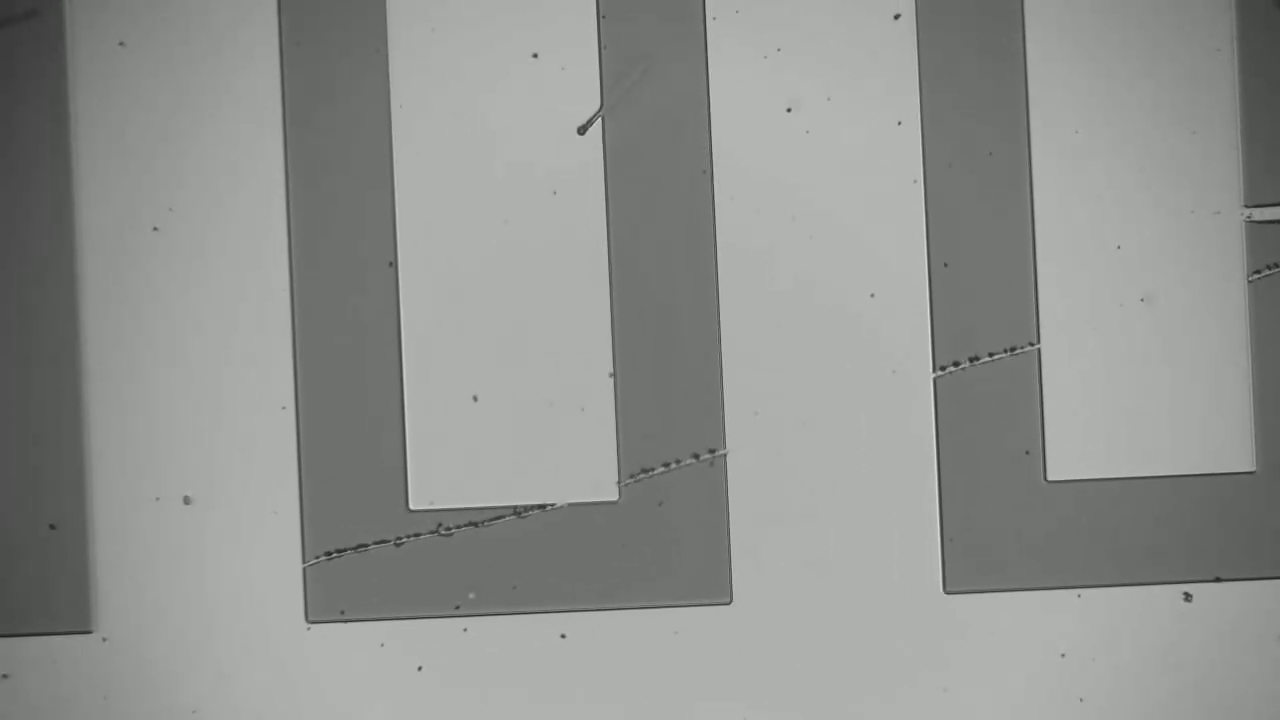Short_circuit: (1224, 179, 1280, 236)
scratch: (312, 515, 545, 562), (623, 445, 720, 484), (938, 342, 1035, 369)
